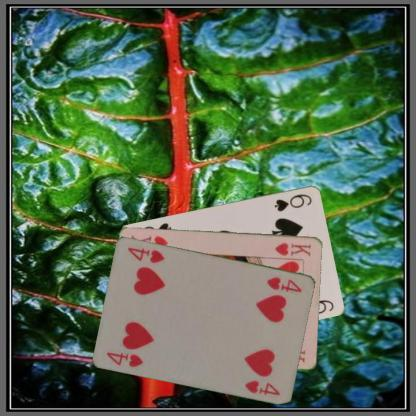4h: (264, 274, 304, 293), (104, 349, 144, 368)
6s: (272, 190, 313, 212)
Kh: (272, 240, 312, 258)
